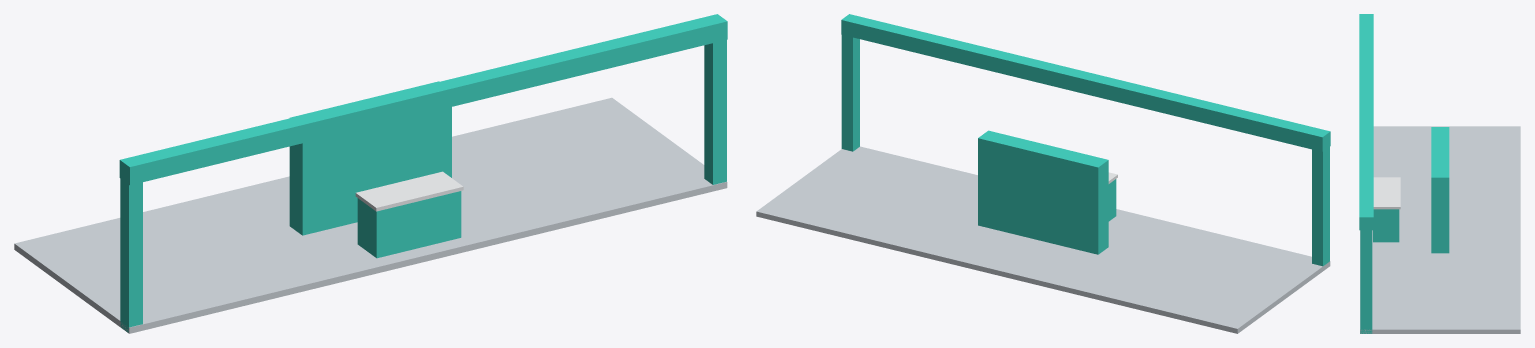
3 renders of one model, left to right at view 1: azimuth 30°, elevation 25°; view 2: azimuth 150°, elevation 25°; view 3: azimuth 270°, elevation 25°, orthographic. The views are drawn at different scales.
Parts seen in each view (by area): view 1: Exhibition Booth Concept; view 2: Exhibition Booth Concept; view 3: Exhibition Booth Concept.
Boxes of the visible parts, x1=… form: Exhibition Booth Concept: x1=14, y1=14, x2=727, y2=333; Exhibition Booth Concept: x1=756, y1=14, x2=1330, y2=333; Exhibition Booth Concept: x1=1359, y1=14, x2=1520, y2=333.
Bounding box in the file's own units: 12 × 3.2 × 4.02.
